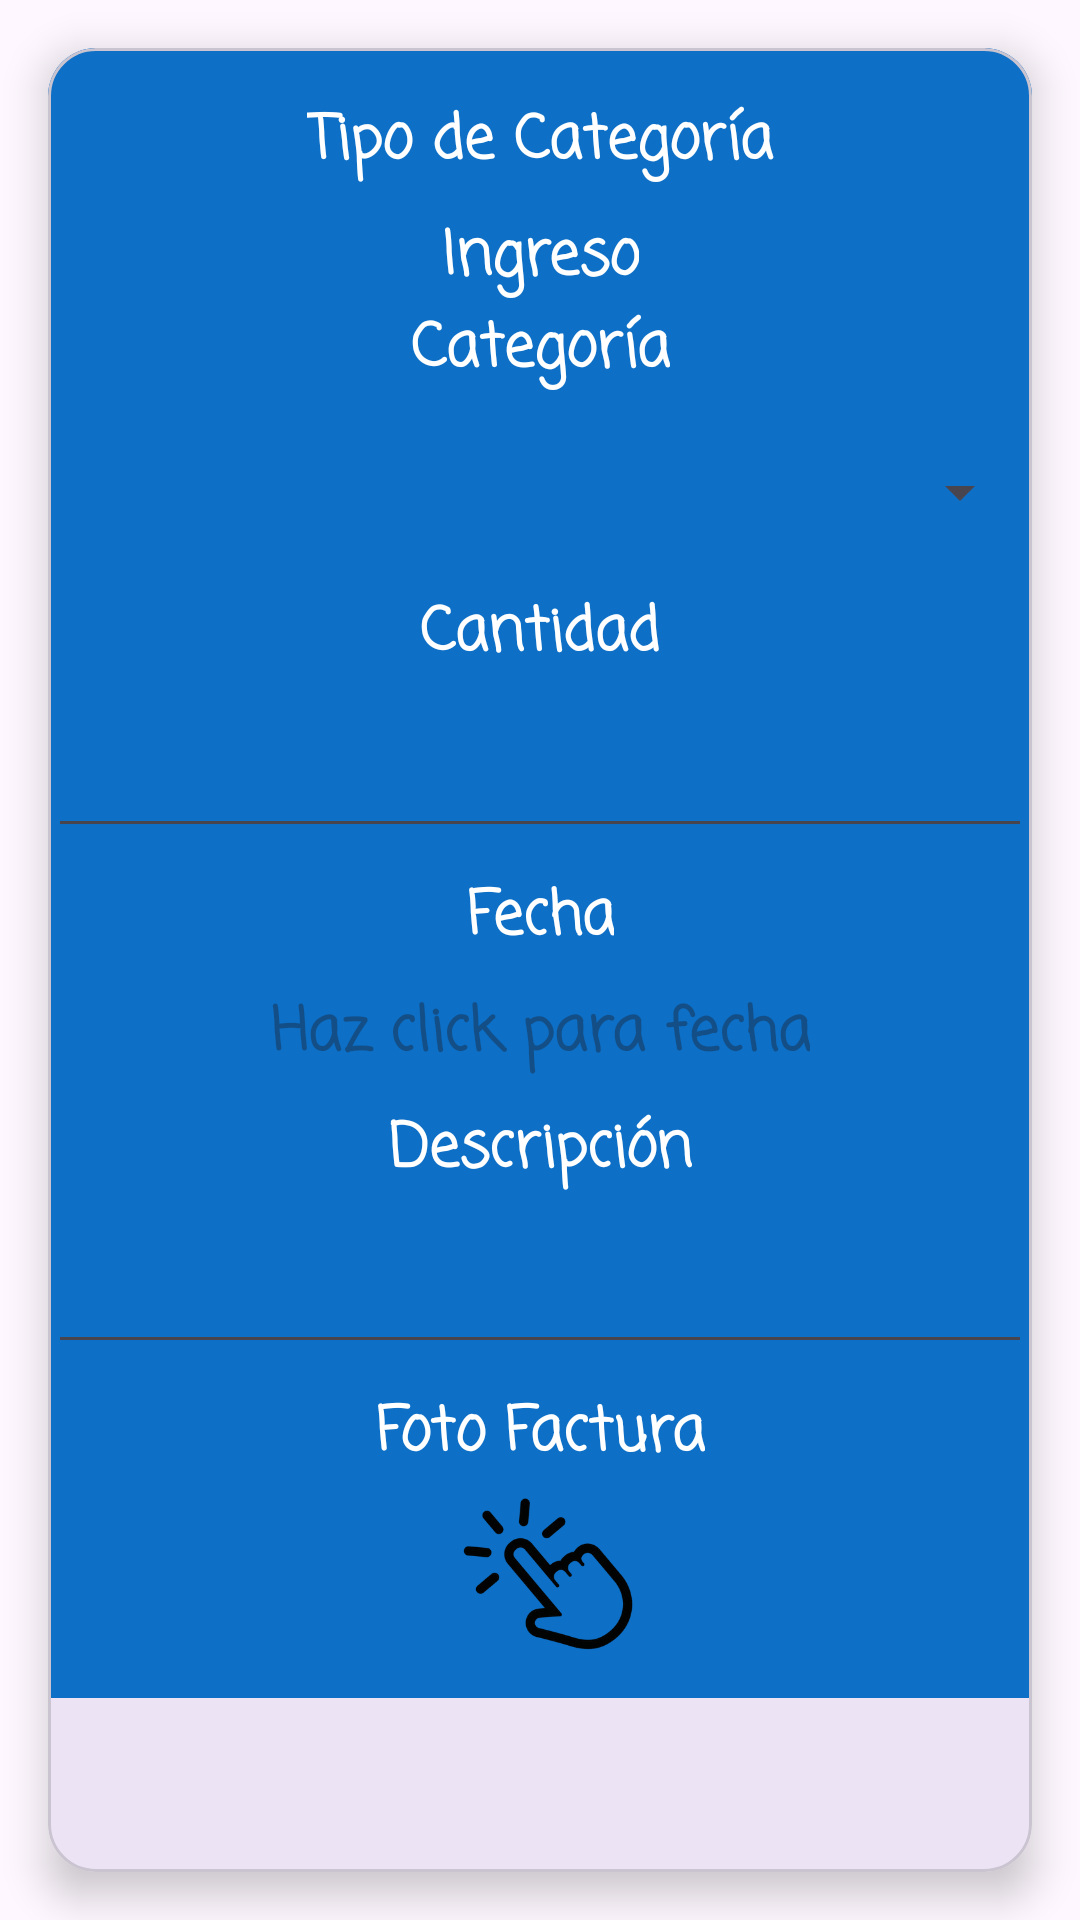

Where icons sit on this 1080 x 1920 app screen, as [x1,y1,x2,y2]:
click: [463,1498,633,1649]
